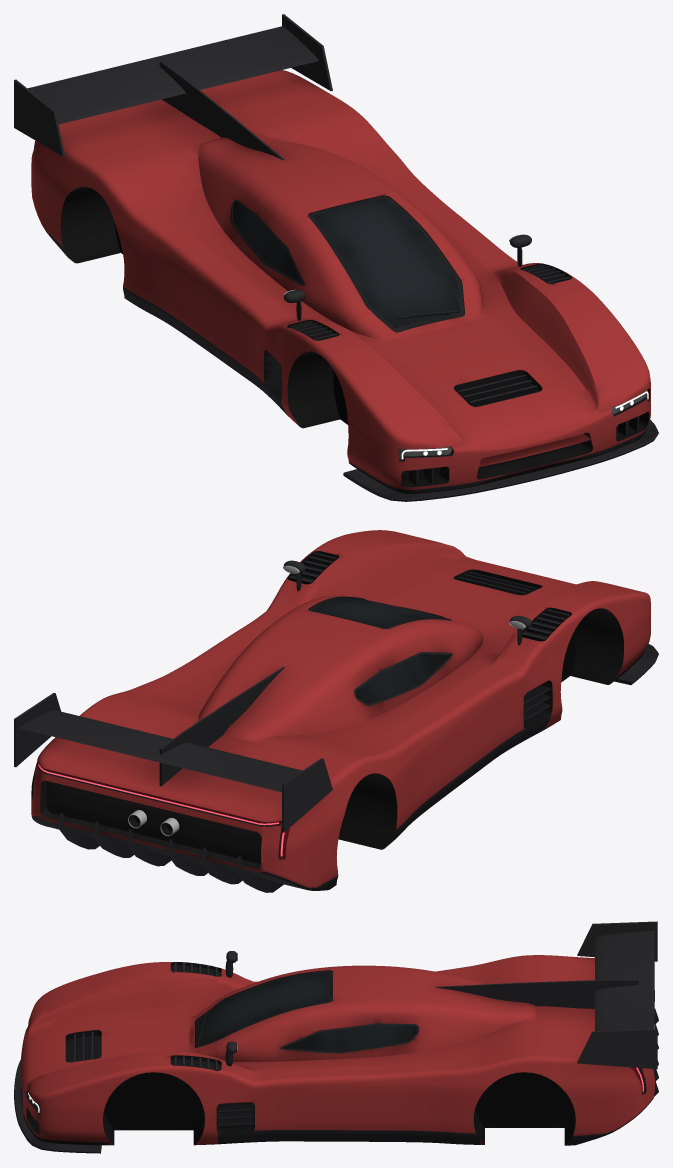
The model's file is specter.m.glb.
The picture shows the model from 3 angles, top to bottom: view 1: azimuth 30°, elevation 25°; view 2: azimuth 150°, elevation 25°; view 3: azimuth 270°, elevation 25°; orthographic projection. The views are drawn at different scales.
Parts seen in each view (by area): view 1: paint_lodm, carbon_lodm, trim_lodm, window_lodm; view 2: paint_lodm, carbon_lodm, trim_lodm, grille_lodm, window_lodm, tail_lodm, tailglow_lodm, chrome_lodm; view 3: paint_lodm, carbon_lodm, trim_lodm, window_lodm, grille_lodm.
Part boxes in pixels (x1,y1,x2,y2): paint_lodm: (31, 70, 650, 489); carbon_lodm: (14, 14, 658, 501); trim_lodm: (34, 140, 650, 493); window_lodm: (233, 196, 464, 328); paint_lodm: (31, 530, 650, 888); carbon_lodm: (14, 552, 658, 892); trim_lodm: (31, 551, 623, 890); grille_lodm: (46, 556, 566, 863); window_lodm: (309, 598, 450, 703); tail_lodm: (33, 763, 289, 858); tailglow_lodm: (38, 764, 284, 856); chrome_lodm: (128, 565, 525, 836); paint_lodm: (20, 955, 654, 1145); carbon_lodm: (14, 921, 658, 1153); trim_lodm: (21, 962, 654, 1145); window_lodm: (199, 972, 417, 1051); grille_lodm: (65, 965, 254, 1128).
Size of what is drawn, in the model's own units: 2.15 by 1.04 by 5.05.
